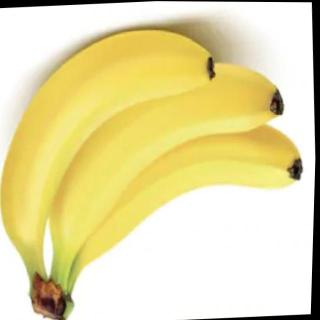banana: (0, 23, 228, 251), (38, 50, 295, 251), (49, 105, 311, 267)
